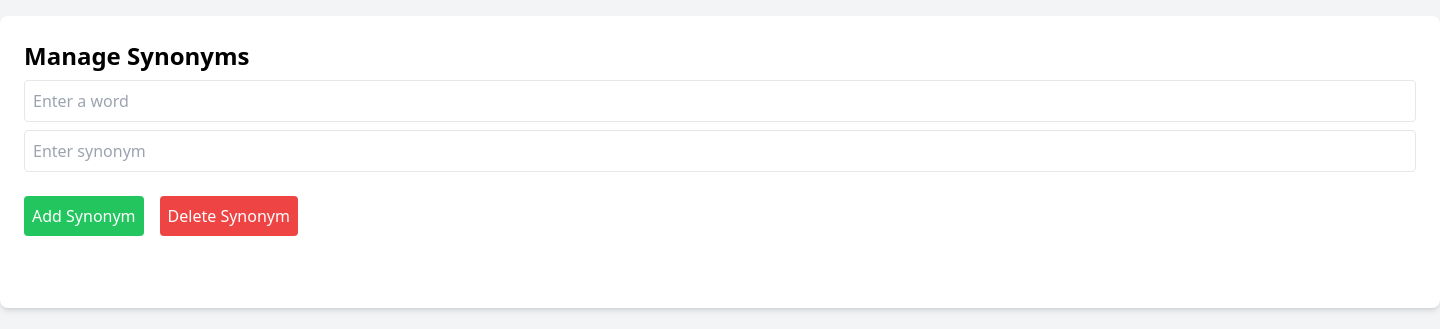
ManageSynonyms Component › successfully adds a synonym and resets fields
This screenshot has width=1440, height=329.
Type "happy" into the field with placeholder "Enter a word" at (720, 101), box [24,80,1416,122]
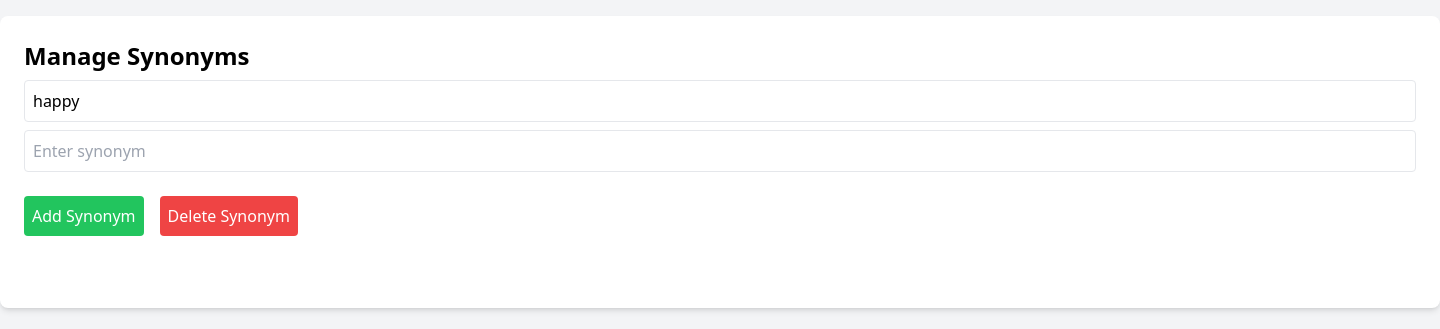
Type "joyful" into the field with placeholder "Enter synonym" at (720, 151), box [24,130,1416,172]
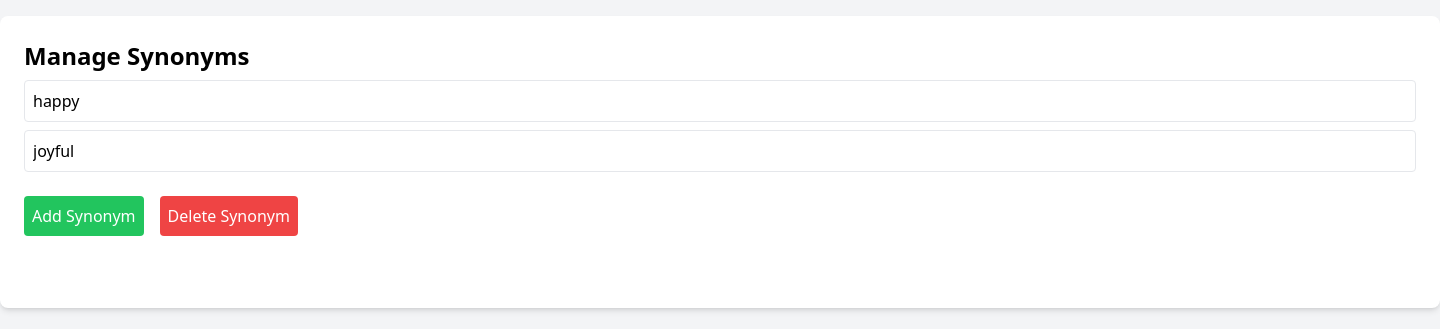
Click the button "Add Synonym" at (84, 216), box [24,196,144,236]
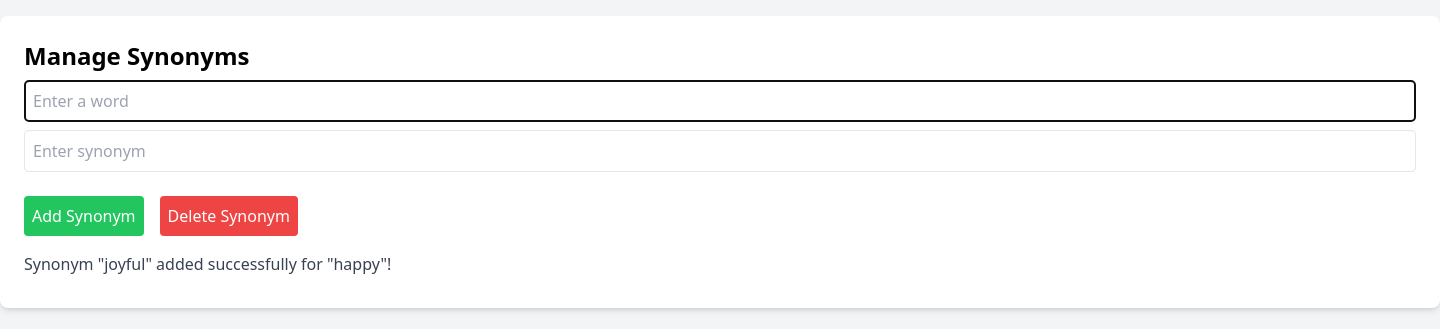
Result: the text "Synonym \"joyful\" added successfully for \"happy\"!" is shown at [24,253,391,275]
Result: the field with placeholder "Enter a word" is empty at [24,80,1416,122]
Result: the field with placeholder "Enter synonym" is empty at [24,130,1416,172]
